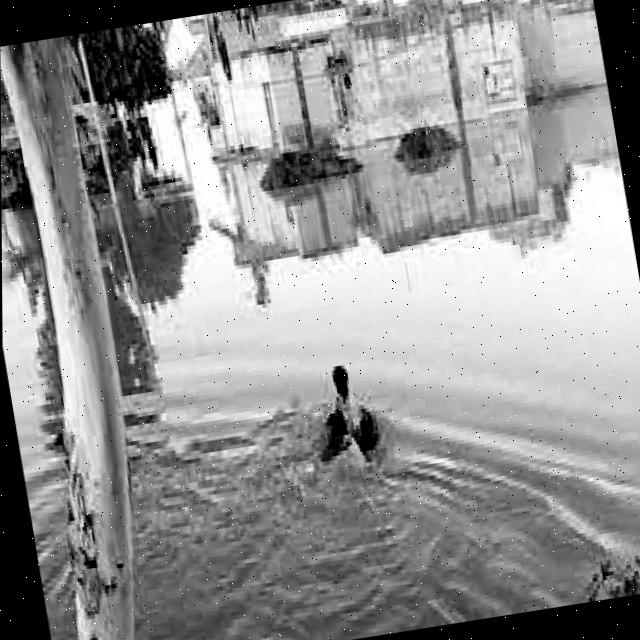civilian: (309, 357, 397, 464)
